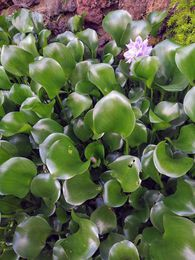water_hyacinth: (0, 10, 194, 259)
